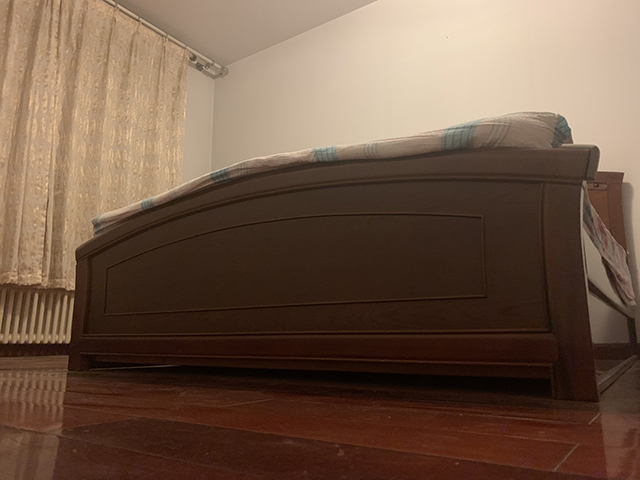bed: (66, 109, 640, 403)
curtain: (1, 1, 112, 294)
